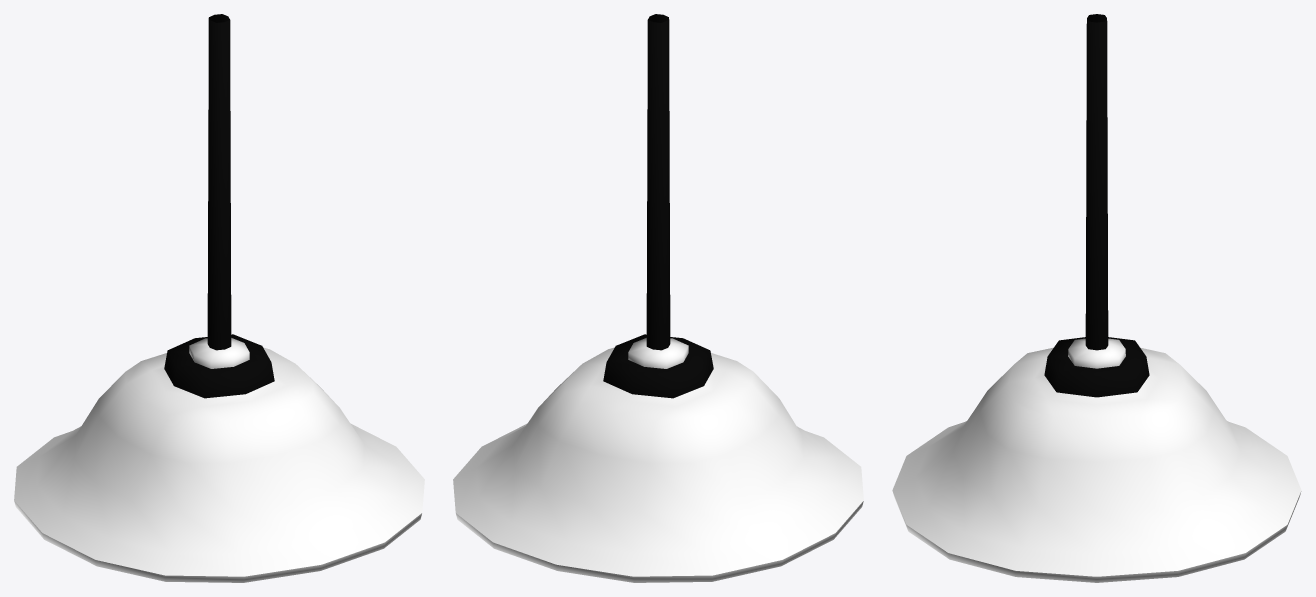
Rendered from ceiling_lamp.fbx.
The picture shows the model from 3 angles, left to right: view 1: azimuth 30°, elevation 25°; view 2: azimuth 150°, elevation 25°; view 3: azimuth 270°, elevation 25°; orthographic projection.
Parts seen in each view (by area): view 1: ceiling_lamp; view 2: ceiling_lamp; view 3: ceiling_lamp.
Boxes of the visible parts, x1=… form: ceiling_lamp: x1=14, y1=14, x2=424, y2=582; ceiling_lamp: x1=453, y1=14, x2=863, y2=582; ceiling_lamp: x1=892, y1=14, x2=1301, y2=582.
Bounding box in the file's own units: 104 × 135 × 104.
